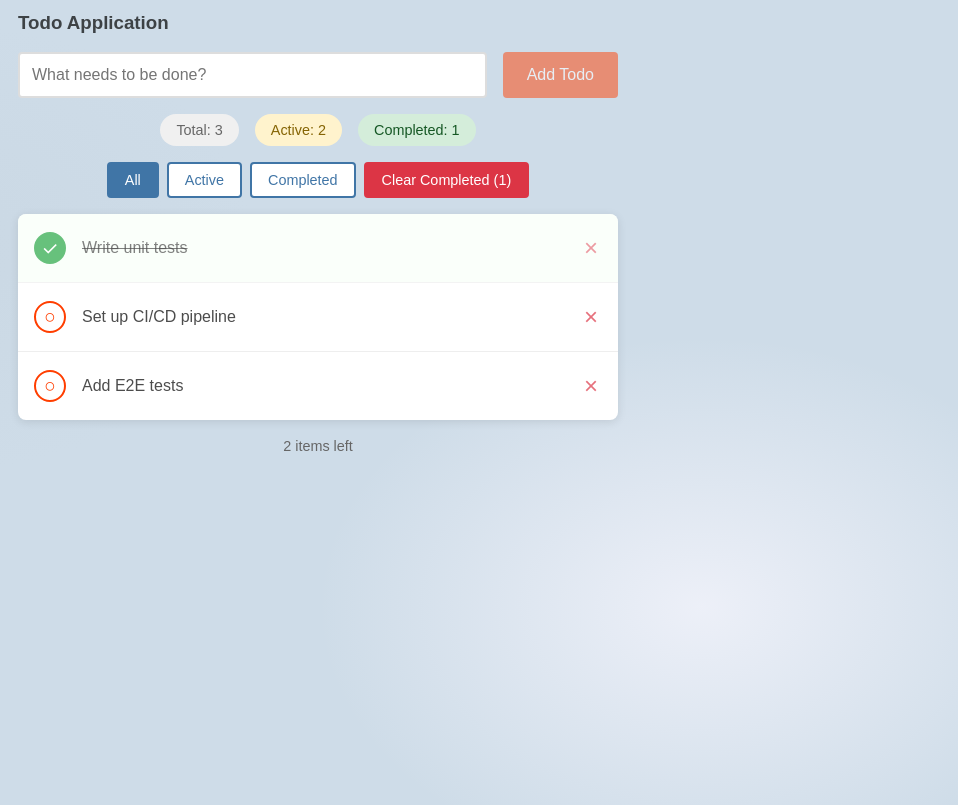
Test case: TodoApp Component › toggles todo completion status
The width and height of the screenshot is (958, 805).
Step 1. Click the button with test id "todo-toggle" next to "Set up CI/CD pipeline" → (50, 317), box [34,301,66,333]
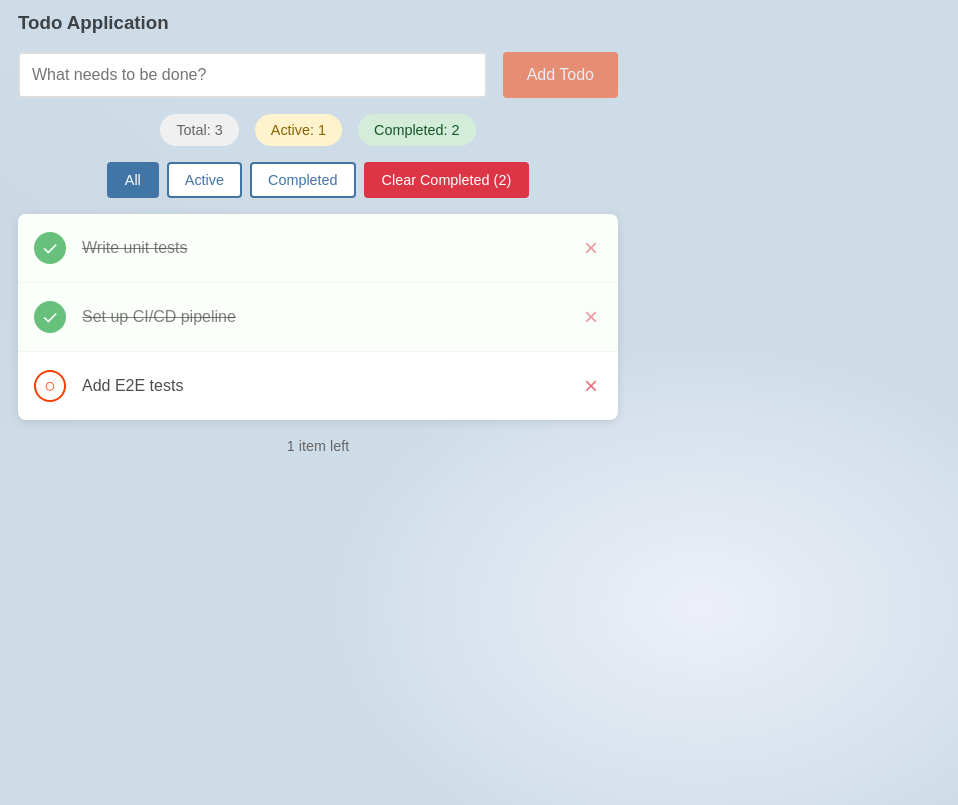
Now the text "Active: 1" is shown, box [255,114,342,146]
Now the text "Completed: 2" is shown, box [358,114,476,146]
